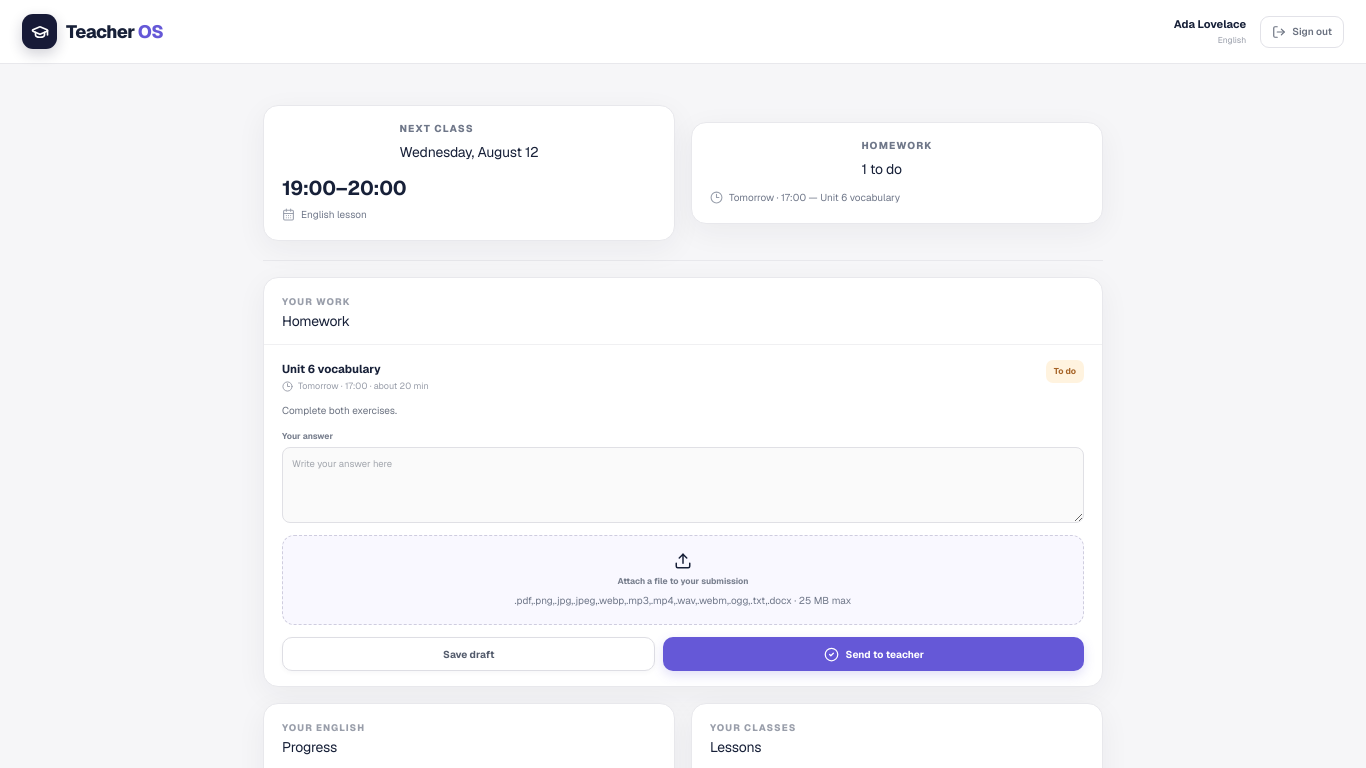
homework the learner still owes › saves a draft without sending it
The image size is (1366, 768).
Type "half an answer" into the text box with placeholder "Write your answer here" at (683, 485), box top-left (282, 447), bottom-right (1084, 523)
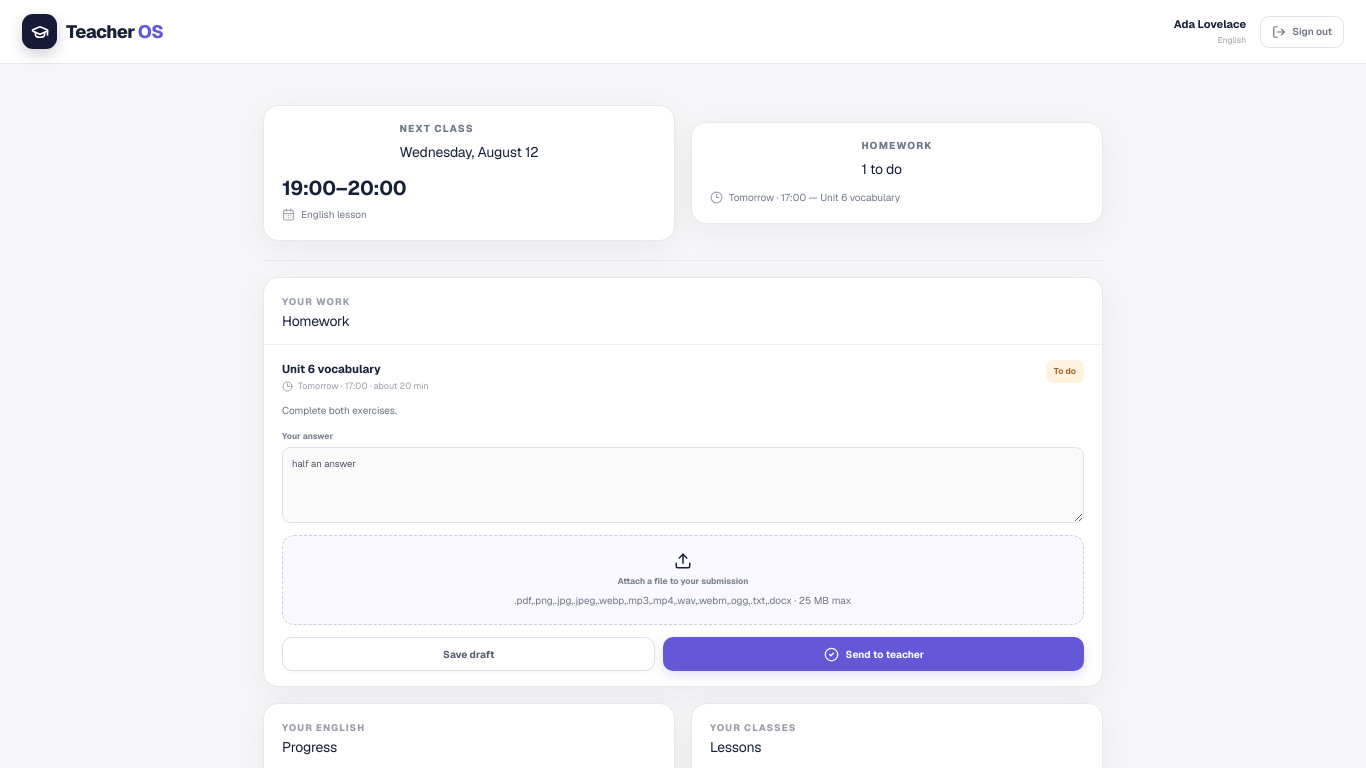
Click the button "Save draft" at (469, 654), box top-left (282, 637), bottom-right (656, 671)
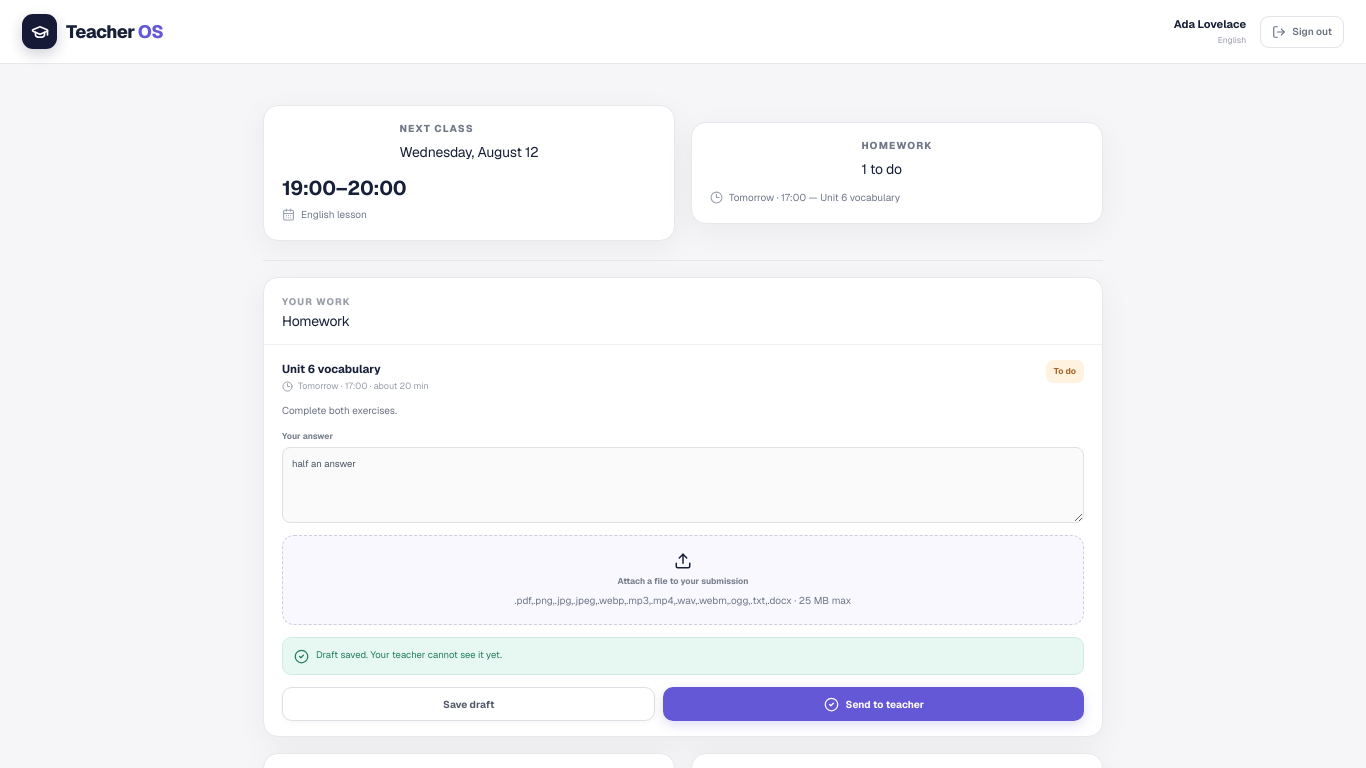
Check: the message shows "cannot see it yet", box top-left (316, 648), bottom-right (502, 661)
